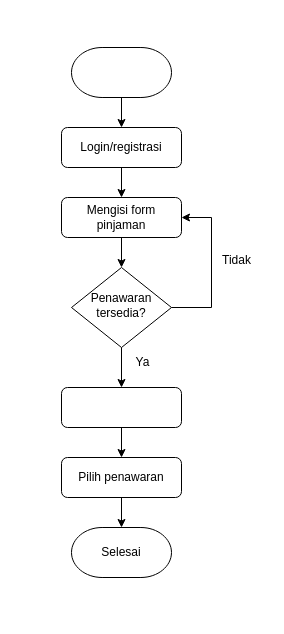
Image size: 284x634. Some labels were removed from this diagram. The shapes that lost their labels are listed below. From the top down, each one's centre as x and y in pixels, then its label:
(x=121, y=72): Mulai
(x=121, y=407): Tampilkan penawaran
